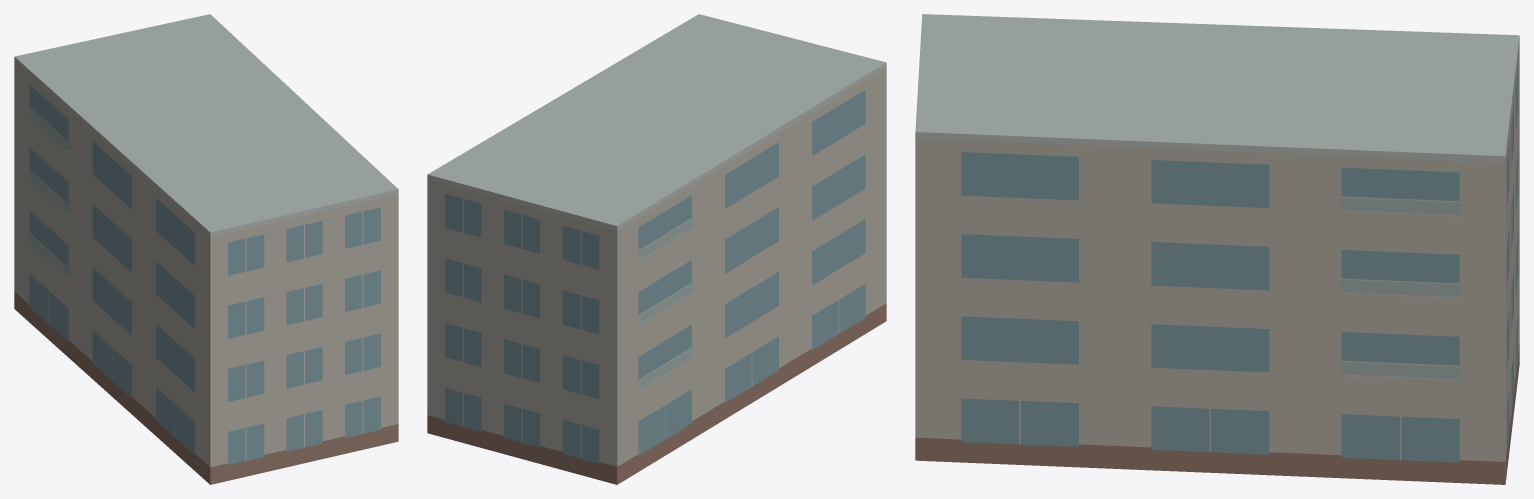
File: survey-upis-33028586.glb
3 renders of one model, left to right at view 1: azimuth 30°, elevation 25°; view 2: azimuth 150°, elevation 25°; view 3: azimuth 270°, elevation 25°, orthographic. The views are drawn at different scales.
Parts seen in each view (by area): view 1: survey-upis-33028586.tmp; view 2: survey-upis-33028586.tmp; view 3: survey-upis-33028586.tmp.
Part boxes in pixels (<box>): survey-upis-33028586.tmp: <box>14,14,398,484</box>; survey-upis-33028586.tmp: <box>427,14,886,484</box>; survey-upis-33028586.tmp: <box>915,14,1519,484</box>.
Bounding box in the file's own units: 12.12 × 13.05 × 21.76.
